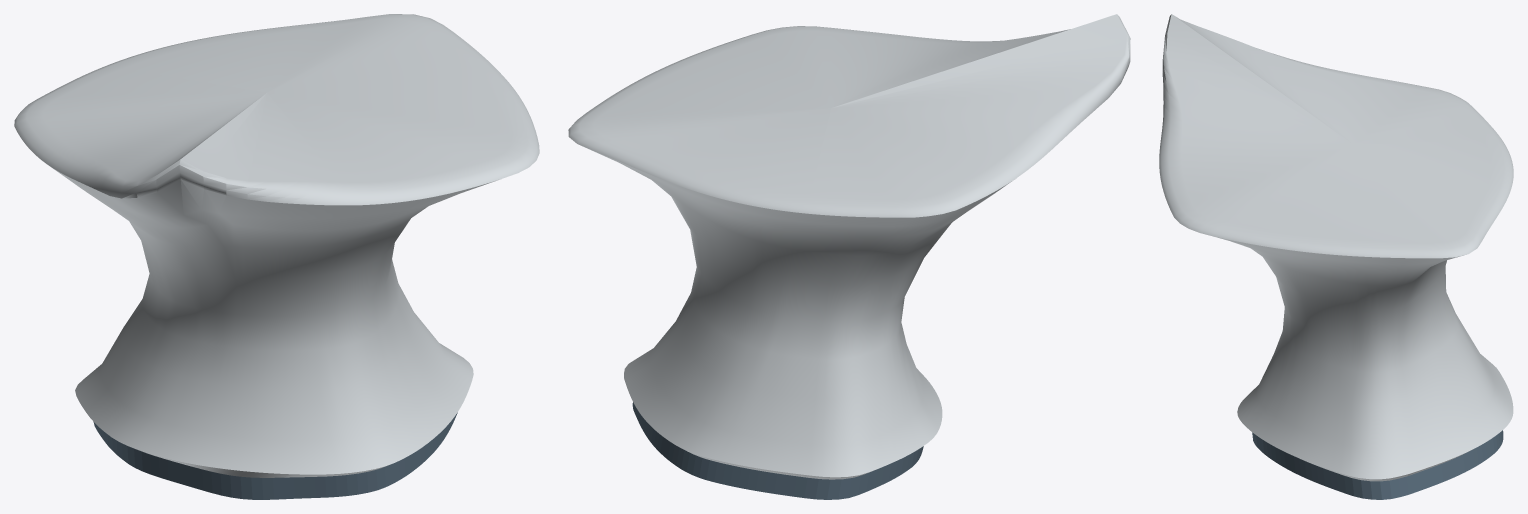
File: mexico-city-museo-soumaya.glb
3 renders of one model, left to right at view 1: azimuth 30°, elevation 25°; view 2: azimuth 150°, elevation 25°; view 3: azimuth 270°, elevation 25°, orthographic. The views are drawn at different scales.
Visible parts, largest first — view 1: Museo Soumaya; view 2: Museo Soumaya; view 3: Museo Soumaya.
Part boxes in pixels (box(x1,y1,x2,y2)): Museo Soumaya: box(14, 14, 539, 499); Museo Soumaya: box(568, 14, 1130, 499); Museo Soumaya: box(1159, 14, 1513, 499).
Size of the model in its own units: 52.63 by 45.95 by 44.38.
